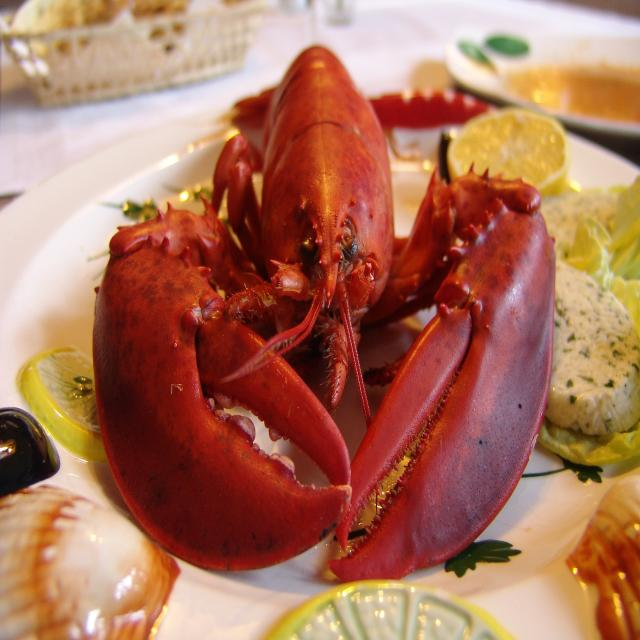Lobster: (94, 47, 554, 578)
lemon: (448, 107, 570, 197)
